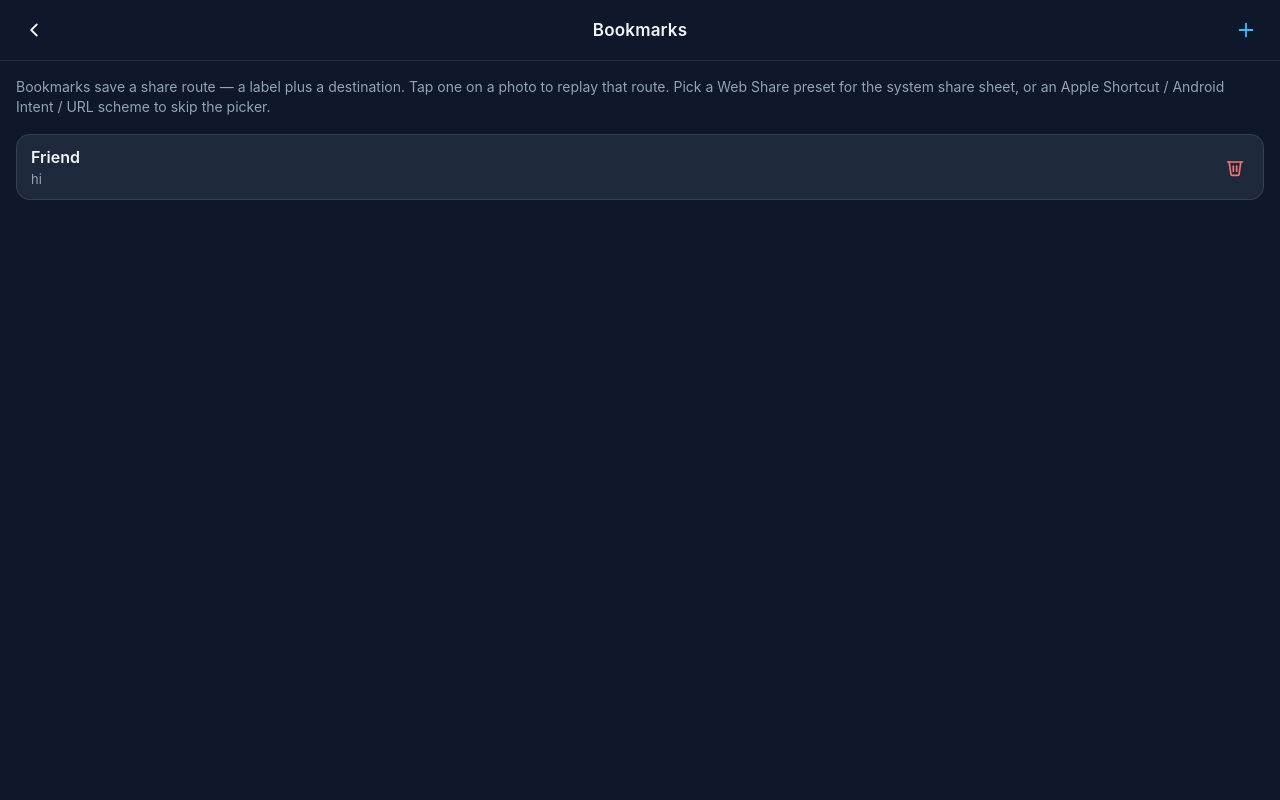
it: <BookmarksScreen /> › edits an existing bookmark
Click the button with aria-label "Edit Friend" at coordinates (55, 157), box [17, 135, 1205, 199]
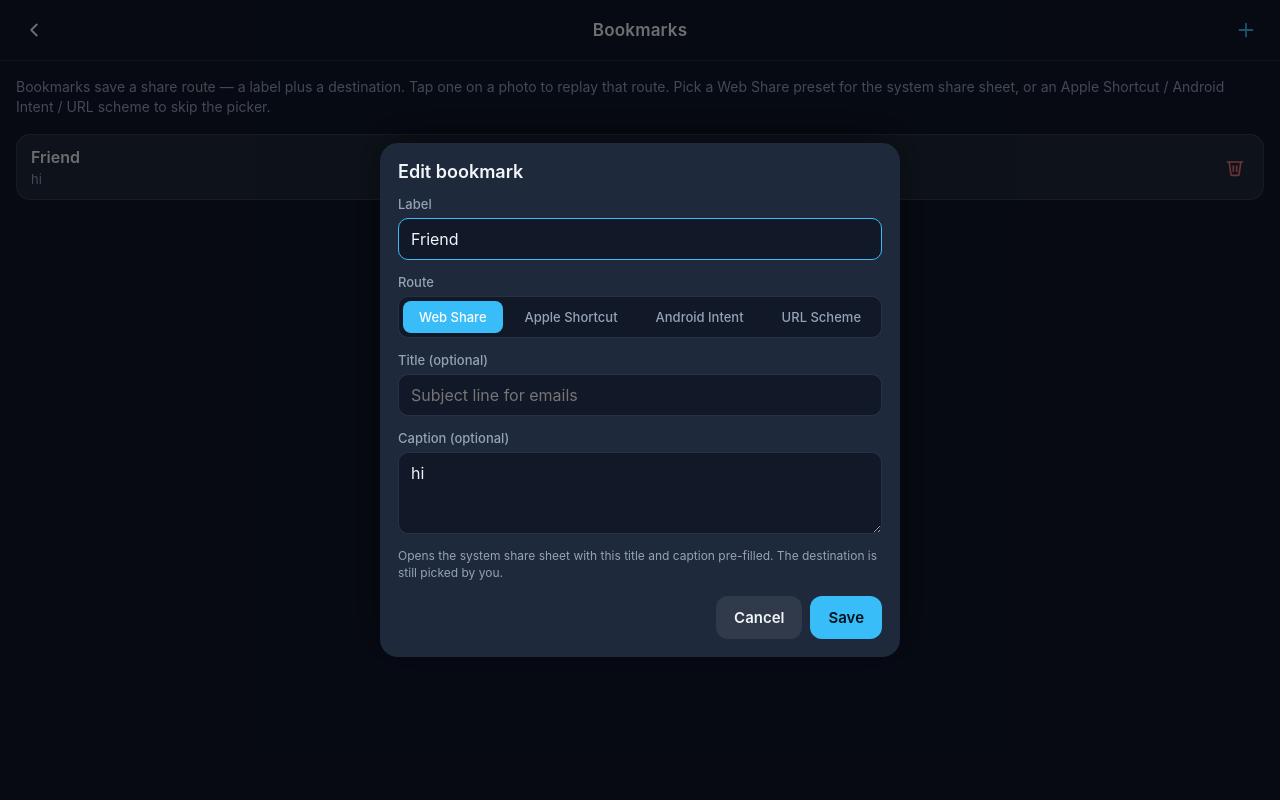
Replace the text in the field labelled "Label" with "Best Friend" at coordinates (640, 239), box [398, 218, 882, 260]
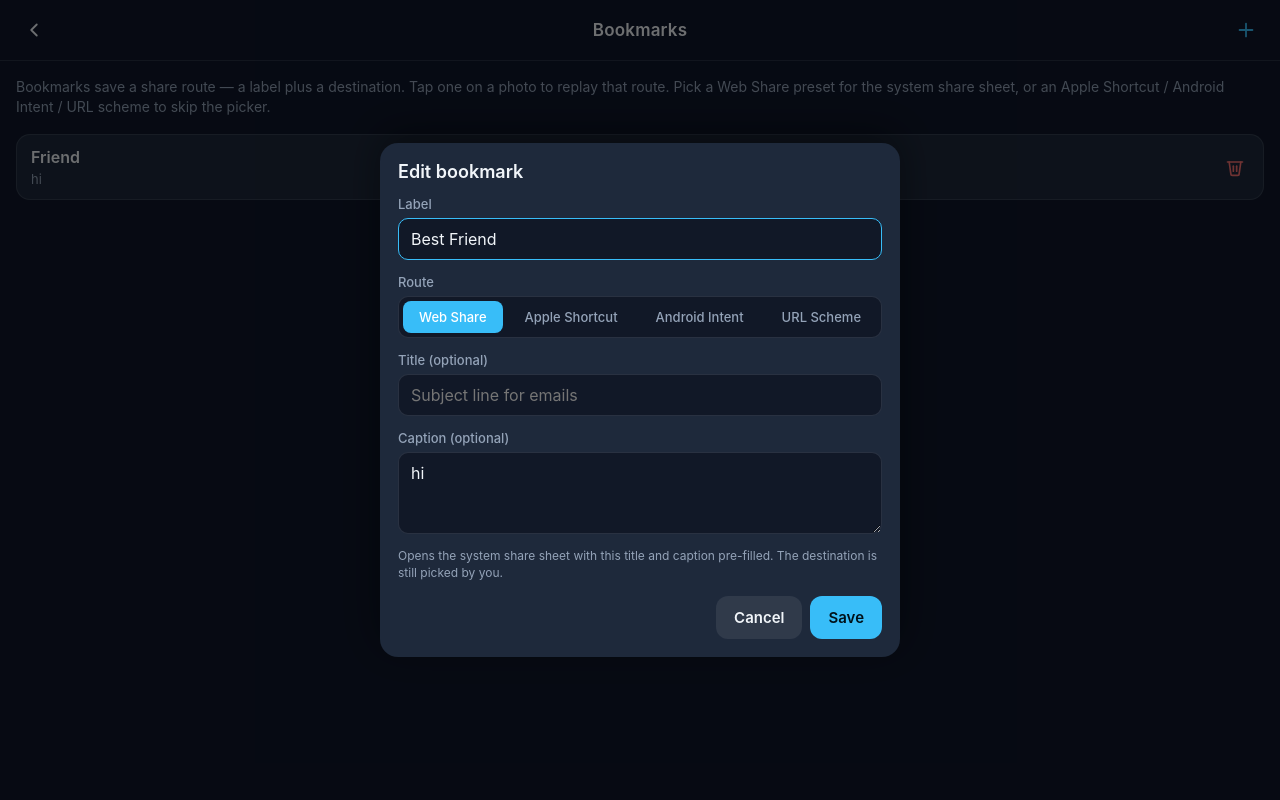
Click the button "Save" at coordinates (846, 617), box [810, 596, 882, 639]
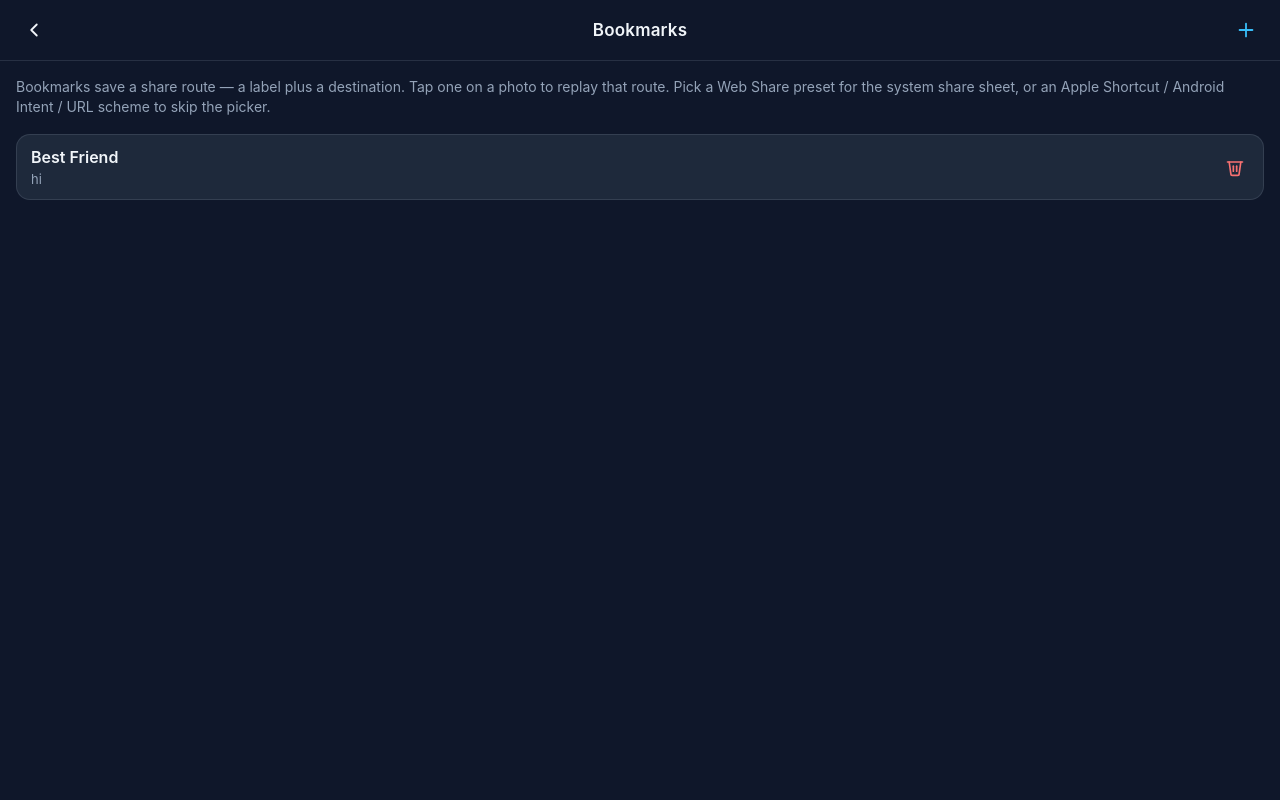
Check: the text "Best Friend" is shown, box [31, 147, 118, 167]
